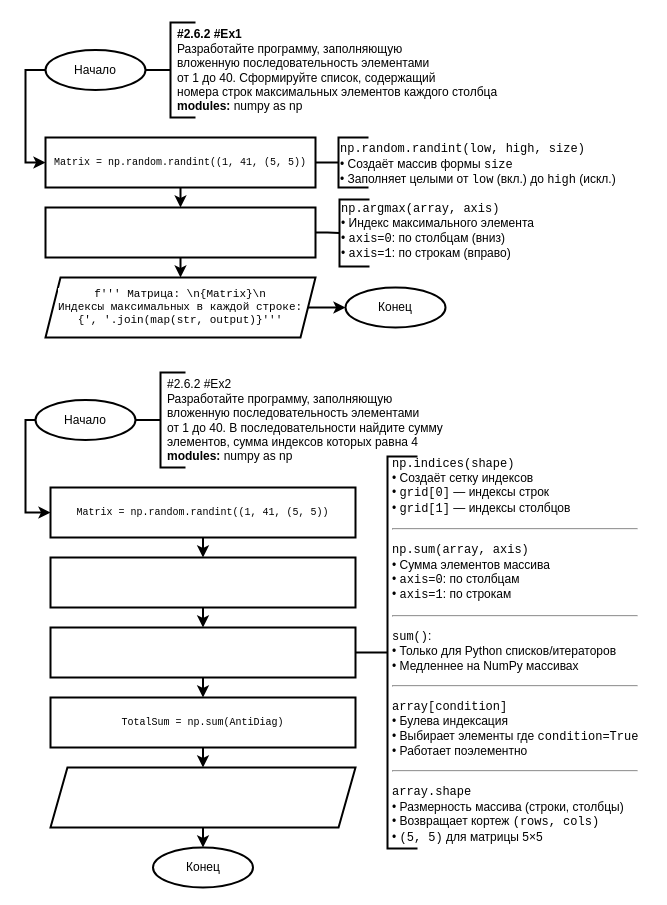
The diagram is 667 pixels wide and 905 high, and some of its shapes have lost their labels. The shapes that lost their labels are listed below. From the top down, each one's box as (x1, y1, x2, y2) in pixels, then its label:
(44, 206, 316, 258): output = np.argmax(Matrix, axis = 0)
(49, 556, 356, 608): IndesSum = np.sum(np.indices(Matrix.shape), axis=0
(49, 626, 356, 678): AntiDiag = Matrix[IndexSum == 4]
(49, 766, 356, 828): f''' Матрица: \n{Matrix}\n Элементы: {AntiDiag} Их Сумма: {TotalSum}'''
